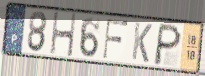6: (79, 16, 101, 59)
8: (26, 10, 48, 54)
F: (101, 18, 130, 61)
H: (49, 11, 77, 59)
K: (130, 20, 154, 65)
P: (152, 23, 183, 68)
